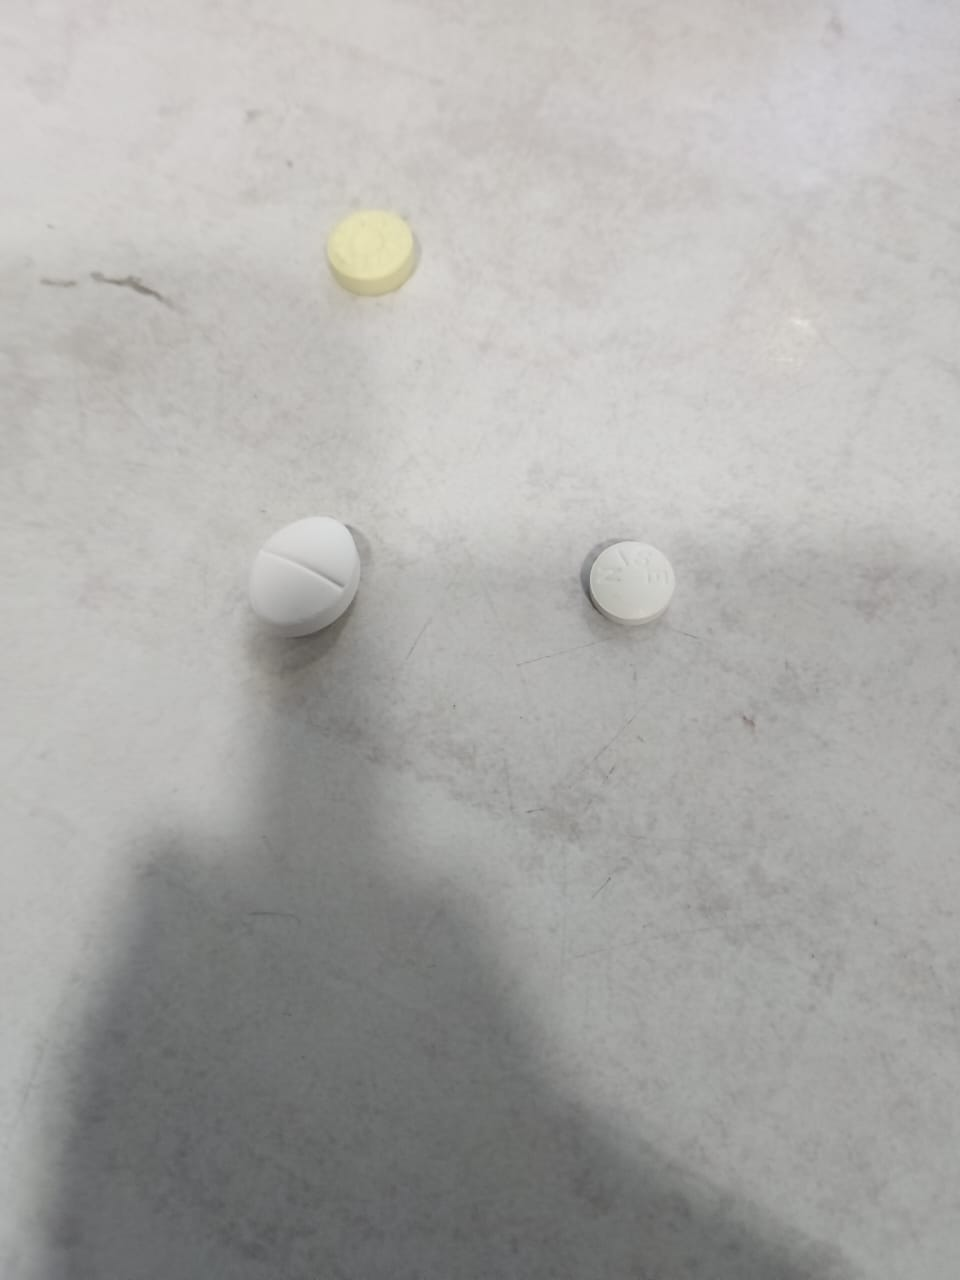Dolo 650: (225, 497, 374, 637)
Meftal SPAS: (291, 208, 444, 295)
Nise: (567, 523, 687, 630)
